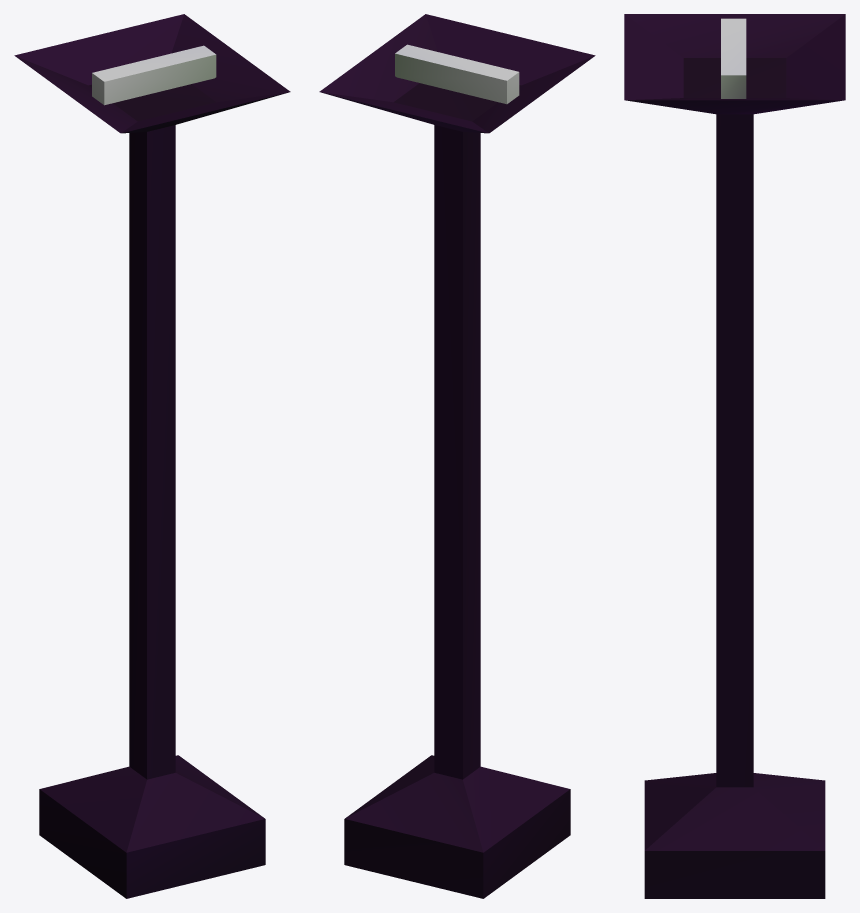
The model's file is black_standing_lamp.FBX.
The picture shows the model from 3 angles, left to right: view 1: azimuth 30°, elevation 25°; view 2: azimuth 150°, elevation 25°; view 3: azimuth 270°, elevation 25°; orthographic projection. The views are drawn at different scales.
Visible parts, largest first — view 1: black standing lamp, bulb01; view 2: black standing lamp, bulb01; view 3: black standing lamp, bulb01.
Part boxes in pixels (x1,y1,x2,y2): black standing lamp: (14,14,290,898); bulb01: (92,45,216,105); black standing lamp: (319,14,595,898); bulb01: (395,44,519,104); black standing lamp: (624,14,845,898); bulb01: (721,18,746,98).
Bounding box in the file's own units: 0.4362 × 1.93 × 0.4729.
